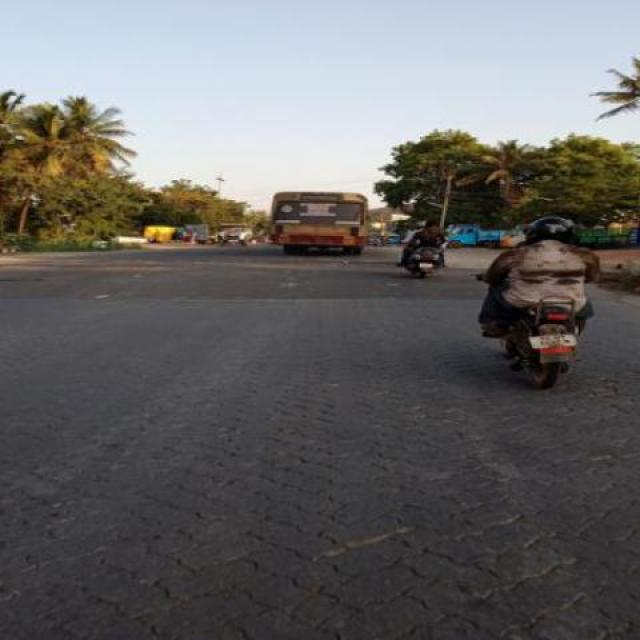Unmarked Bump: (47, 254, 400, 266)
